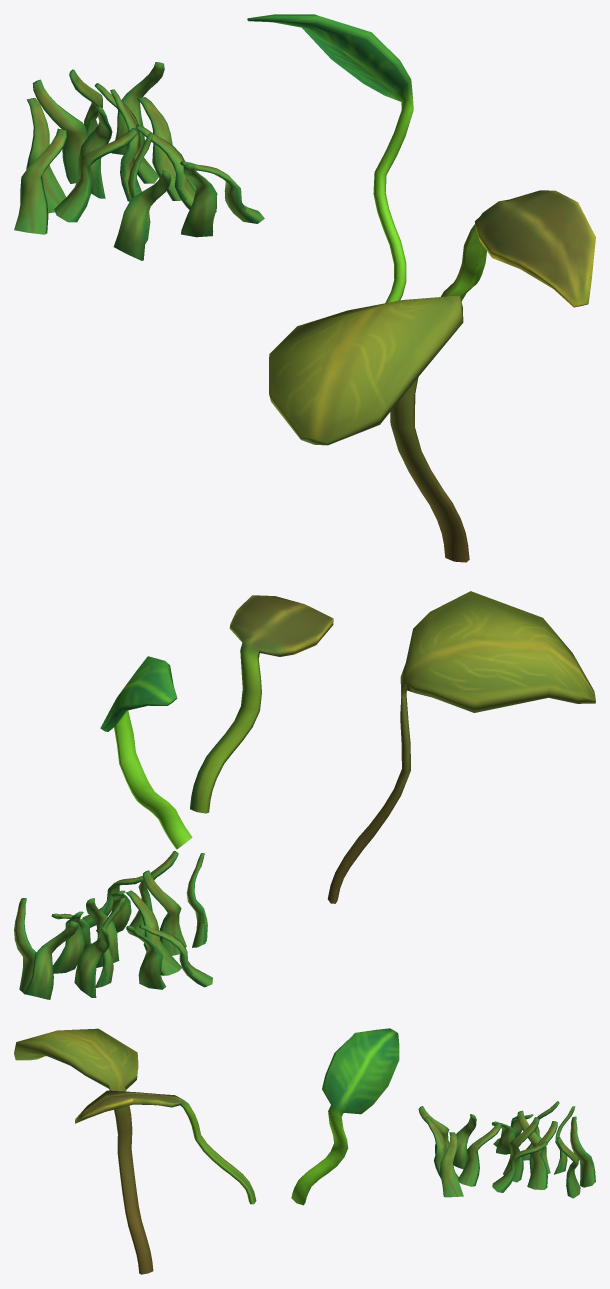
Rendered from PLANTAS.glb.
3 renders of one model, top to bottom at view 1: azimuth 30°, elevation 25°; view 2: azimuth 150°, elevation 25°; view 3: azimuth 270°, elevation 25°, orthographic. The views are drawn at different scales.
Parts seen in each view (by area): view 1: HOJA GRANDE, cesped, hojas; view 2: HOJA GRANDE, hojas, cesped; view 3: hojas, cesped, HOJA GRANDE.
Part boxes in pixels (bbox=[...]): HOJA GRANDE: bbox=[269, 295, 469, 562]; cesped: bbox=[14, 62, 264, 260]; hojas: bbox=[247, 14, 595, 307]; HOJA GRANDE: bbox=[327, 591, 595, 903]; hojas: bbox=[100, 595, 333, 849]; cesped: bbox=[14, 851, 212, 999]; hojas: bbox=[75, 1028, 399, 1205]; cesped: bbox=[418, 1101, 595, 1198]; HOJA GRANDE: bbox=[14, 1028, 153, 1274].
Size of the model in its own units: 1.03 by 1.13 by 2.38.
Materials: 2 (2 with a texture image).
